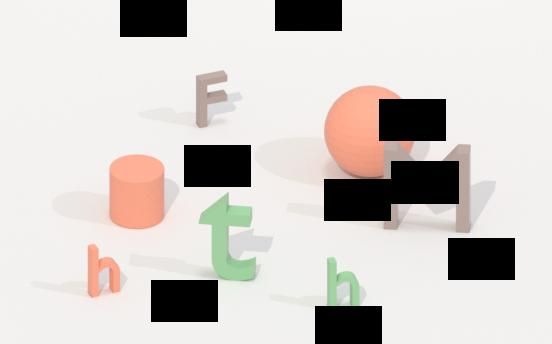F: (191, 67, 233, 132)
M-hoa: (379, 133, 478, 241)
cau: (321, 83, 419, 182)
h: (85, 237, 124, 301), (323, 253, 362, 312)
t: (199, 188, 265, 284)
tru: (107, 153, 168, 233)
